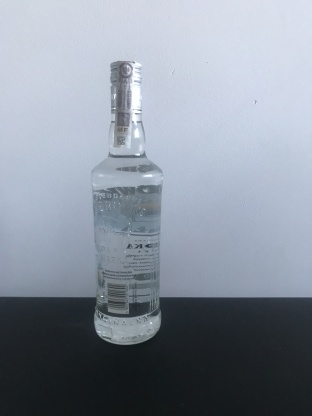nakretka: (107, 56, 145, 116)
